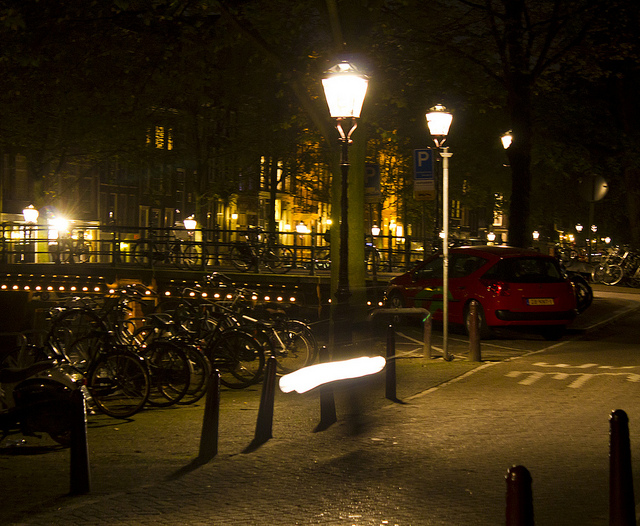car: (386, 241, 591, 339)
